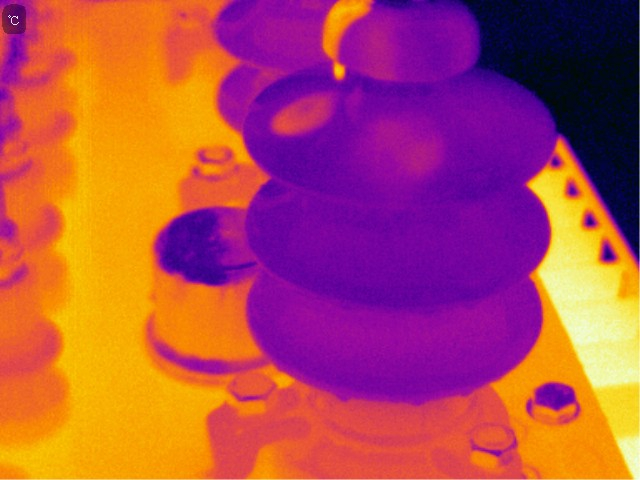Oil: (369, 107, 447, 177), (255, 86, 345, 143), (316, 1, 378, 80), (456, 383, 477, 400), (408, 393, 428, 410), (334, 386, 352, 404)
